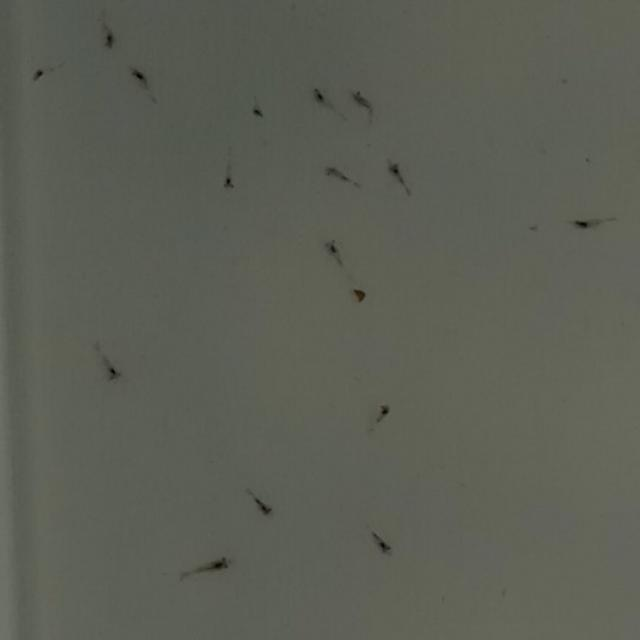shrimp-seed: (101, 358, 127, 384), (206, 552, 234, 574), (322, 233, 344, 260), (370, 532, 393, 556), (350, 88, 372, 113), (324, 164, 349, 186), (128, 64, 150, 87), (385, 160, 406, 184), (309, 82, 329, 106), (570, 213, 594, 233), (253, 494, 273, 518), (98, 31, 120, 52), (30, 64, 47, 85), (220, 172, 237, 192), (376, 401, 392, 421)
